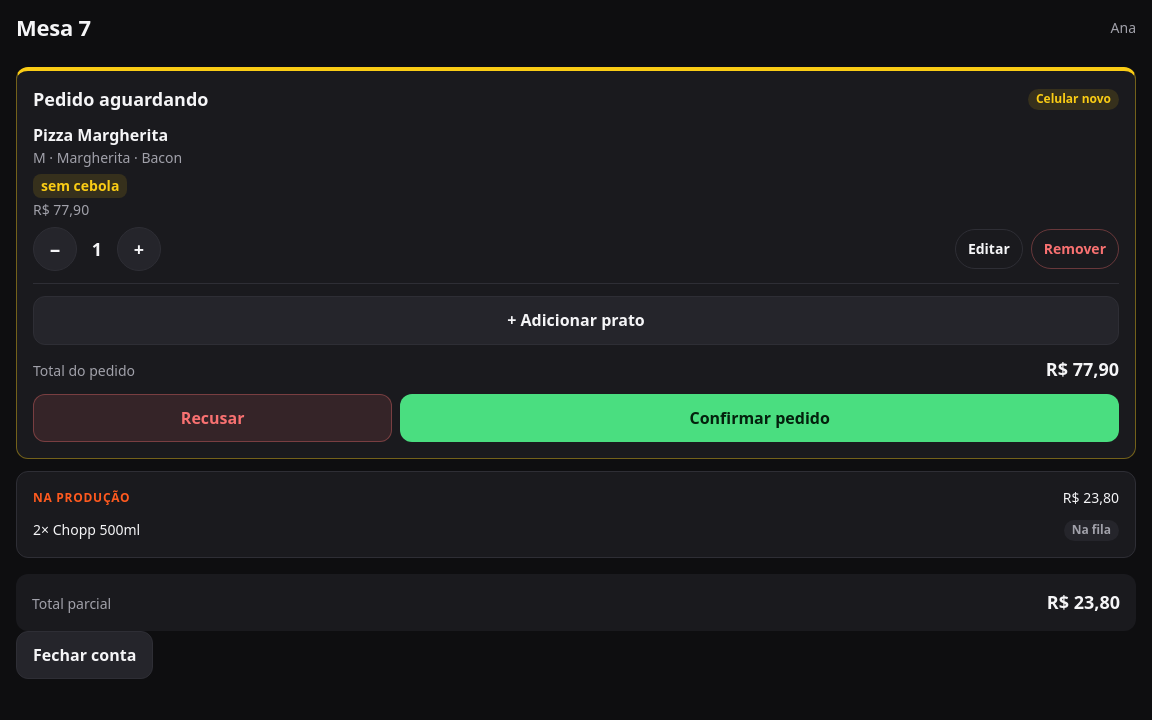
Test case: Tela da mesa › 409 recarrega a mesa e avisa sem erro feio
Expected: the heading "Mesa 7" is shown, [16,12,91,43]
What coordinates should you click on to do the following:
click the button "Confirmar pedido"
I would click on:
 (760, 418)
Its box is [400,394,1119,442].
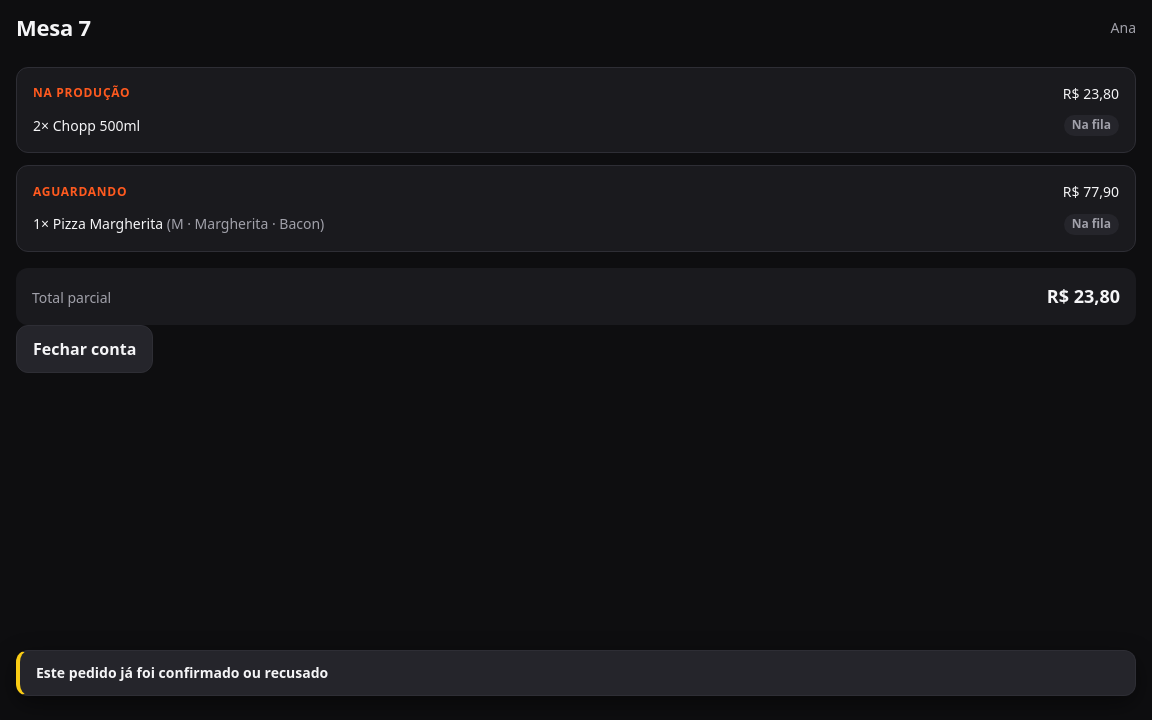
Now the text "Este pedido já foi confirmado ou recusado" is shown, box [16,650,1136,696]
Now the heading "Pedido aguardando" is gone
